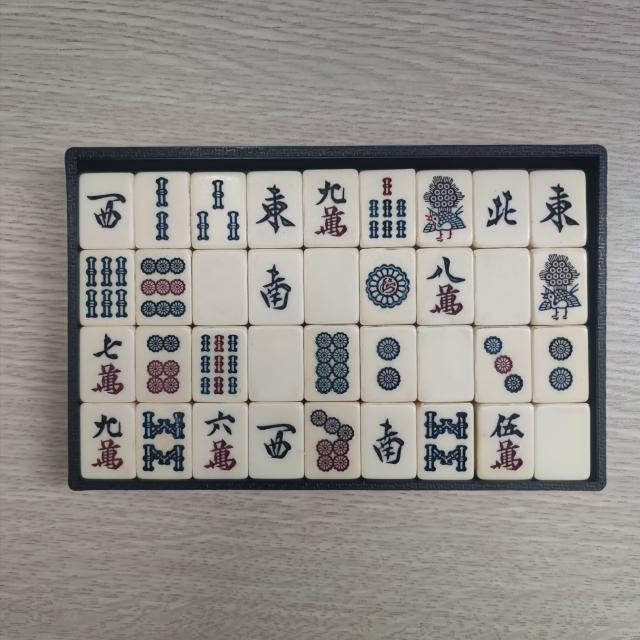hdw: (480, 253, 526, 320), (424, 331, 470, 397), (309, 254, 354, 319), (542, 410, 586, 476), (198, 255, 242, 321), (256, 332, 300, 397)
hwe: (253, 178, 299, 244), (537, 176, 582, 241)
hwn: (480, 176, 524, 241)
hws: (255, 254, 299, 322), (366, 408, 411, 473)
hww: (253, 410, 300, 474), (84, 179, 130, 244)
sb1: (421, 174, 468, 244), (537, 252, 584, 322)
sb2: (140, 174, 187, 244)
sb3: (196, 175, 243, 245)
sb6: (86, 254, 132, 321)
sb7: (364, 174, 412, 242)
sb8: (423, 409, 471, 477), (142, 409, 188, 477)
sb9: (198, 331, 242, 399)
sc5: (482, 409, 529, 476)
sc6: (198, 406, 242, 474)
sc7: (86, 332, 130, 398)
sc8: (420, 253, 468, 320)
sc9: (310, 175, 355, 242), (86, 410, 130, 476)
sd1: (364, 252, 412, 320)
sd2: (538, 332, 584, 399), (367, 332, 412, 396)
sd3: (479, 330, 526, 398)
sd6: (140, 331, 186, 398)
sd7: (308, 406, 357, 474)
sd8: (309, 331, 354, 396)
sd9: (142, 254, 190, 321)
